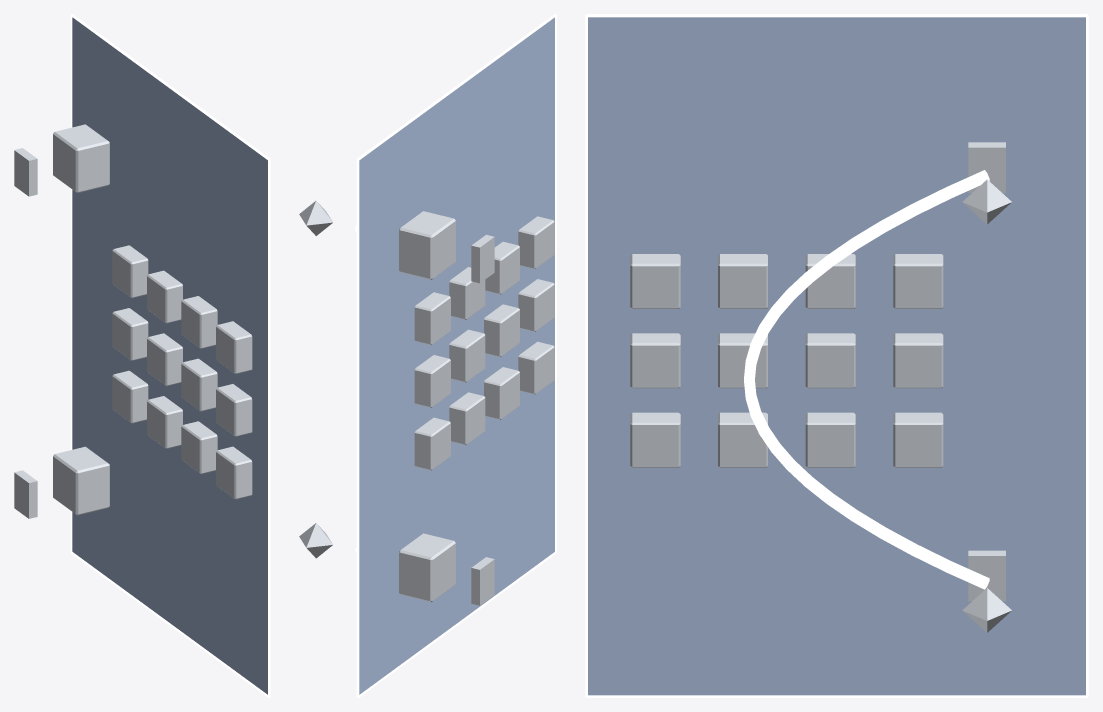
File: slab_fusion.glb
3 renders of one model, left to right at view 1: azimuth 30°, elevation 25°; view 2: azimuth 150°, elevation 25°; view 3: azimuth 270°, elevation 25°, orthographic. The views are drawn at different scales.
Visible parts, largest first — view 1: slab_glass, slab_frame, slot_attn_A, slot_attn_B, slot_expert_10, slot_expert_11, slot_expert_09, slot_expert_00, slot_expert_07, slot_expert_06, slot_expert_08, slot_expert_01 (+6 smaller); view 2: slab_glass, slab_frame, slot_attn_A, slot_attn_B, slot_expert_00, slot_expert_01, slot_expert_02, slot_expert_03, slot_expert_11, slot_expert_04, slot_expert_09, slot_expert_10 (+8 smaller); view 3: slab_glass, slot_gate, slab_frame, slot_expert_00, slot_expert_03, slot_expert_09, slot_expert_04, slot_expert_01, slot_expert_10, slot_expert_02, slot_expert_11, slot_expert_08 (+7 smaller).
Boxes of the visible parts, <box> form: slab_glass: <box>72,17,267,694</box>; slab_frame: <box>70,14,270,697</box>; slot_attn_A: <box>53,446,109,515</box>; slot_attn_B: <box>53,124,109,192</box>; slot_expert_10: <box>216,384,252,436</box>; slot_expert_11: <box>216,321,252,373</box>; slot_expert_09: <box>216,446,252,499</box>; slot_expert_00: <box>112,370,148,423</box>; slot_expert_07: <box>181,358,217,411</box>; slot_expert_06: <box>181,421,217,473</box>; slot_expert_08: <box>181,296,217,348</box>; slot_expert_01: <box>112,308,148,360</box>; slab_glass: <box>359,17,554,694</box>; slab_frame: <box>356,14,556,697</box>; slot_attn_A: <box>399,533,455,602</box>; slot_attn_B: <box>399,211,455,279</box>; slot_expert_00: <box>414,417,450,470</box>; slot_expert_01: <box>414,355,450,407</box>; slot_expert_02: <box>414,292,450,345</box>; slot_expert_03: <box>449,392,485,445</box>; slot_expert_11: <box>518,216,554,269</box>; slot_expert_04: <box>449,329,485,382</box>; slot_expert_09: <box>518,341,554,394</box>; slot_expert_10: <box>518,279,554,331</box>; slab_glass: <box>588,17,1085,695</box>; slot_gate: <box>744,170,989,589</box>; slab_frame: <box>585,14,1088,697</box>; slot_expert_00: <box>893,412,943,467</box>; slot_expert_03: <box>805,412,855,467</box>; slot_expert_09: <box>630,412,680,467</box>; slot_expert_04: <box>805,333,855,388</box>; slot_expert_01: <box>893,333,943,388</box>; slot_expert_10: <box>630,333,680,388</box>; slot_expert_02: <box>893,254,943,308</box>; slot_expert_11: <box>630,254,680,308</box>; slot_expert_08: <box>718,254,767,308</box>.
Size of the model in its own units: 2.2 by 6.02 by 4.02.
